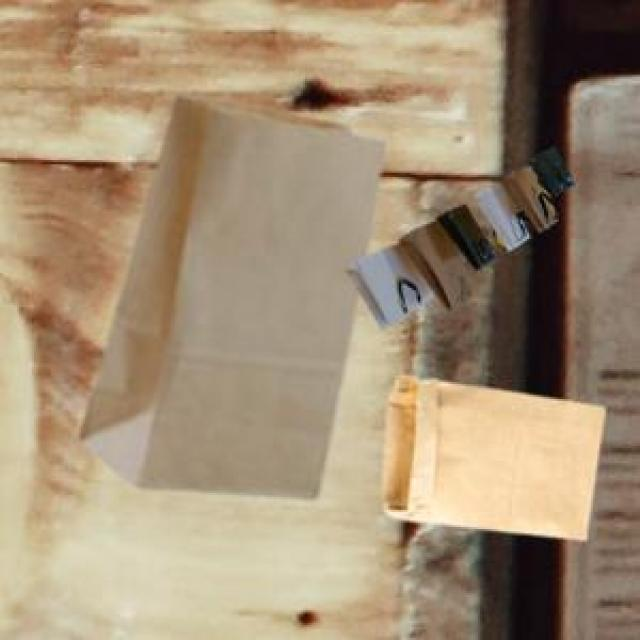Paper -Biodegradable-: (79, 94, 380, 500), (353, 147, 572, 323), (384, 380, 595, 548)
